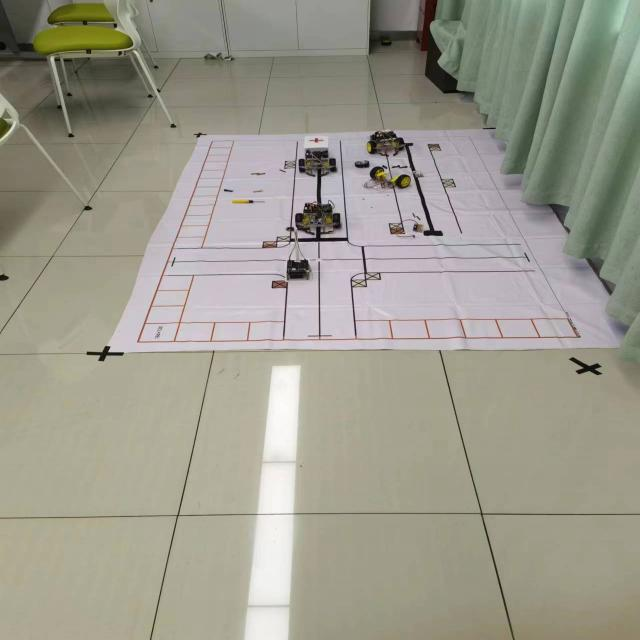RedCross: (308, 137, 325, 143)
